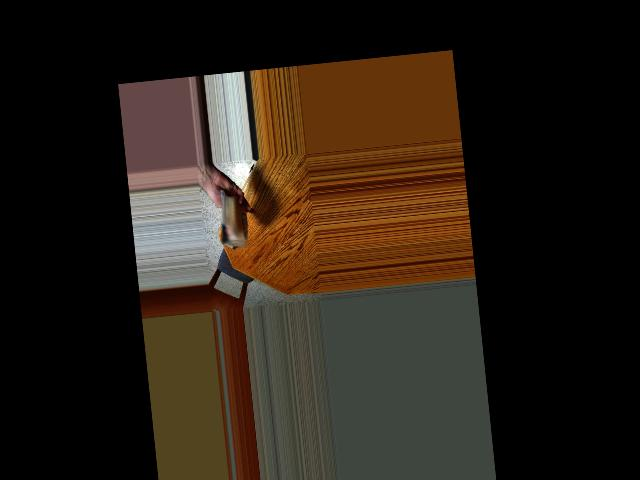cheese: (212, 192, 255, 248)
